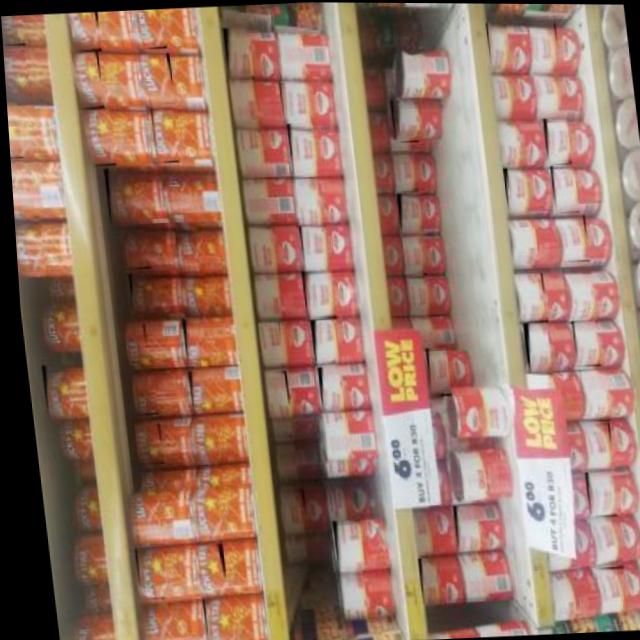Beans: (102, 166, 138, 229), (70, 47, 105, 108), (558, 265, 594, 323), (138, 52, 176, 106), (80, 107, 114, 166), (580, 513, 616, 568), (296, 267, 334, 319), (118, 488, 152, 546), (11, 215, 42, 278), (551, 212, 589, 263), (225, 74, 259, 131), (285, 120, 318, 177), (188, 541, 221, 597), (185, 484, 218, 540), (475, 380, 506, 439), (510, 271, 545, 323), (573, 366, 606, 421), (246, 269, 279, 323), (148, 105, 178, 164), (220, 25, 251, 82), (528, 21, 562, 72), (324, 518, 358, 569), (241, 224, 274, 276), (295, 224, 329, 274), (518, 319, 548, 375), (36, 363, 66, 419), (193, 596, 231, 640), (234, 122, 265, 175), (3, 48, 31, 105), (126, 547, 156, 600), (444, 502, 475, 553), (587, 561, 618, 612), (578, 468, 610, 517), (289, 179, 321, 228), (547, 163, 578, 213), (175, 270, 207, 318), (304, 317, 334, 368), (330, 569, 360, 620), (577, 421, 608, 470), (278, 80, 310, 127), (259, 369, 287, 422), (251, 317, 280, 368), (177, 316, 204, 370), (500, 165, 529, 214), (541, 116, 570, 165), (387, 96, 417, 143), (272, 487, 302, 534), (418, 344, 446, 394), (493, 120, 520, 171), (567, 318, 596, 365), (484, 18, 511, 68), (182, 419, 212, 464), (170, 222, 197, 272), (531, 73, 562, 116), (67, 12, 100, 52), (118, 225, 147, 270), (128, 422, 159, 464), (313, 365, 340, 412), (403, 503, 428, 553), (393, 192, 422, 235), (182, 369, 209, 415), (136, 9, 167, 49), (410, 556, 434, 607), (125, 373, 154, 415), (123, 272, 152, 314), (397, 233, 425, 276), (389, 150, 417, 192), (490, 71, 514, 120), (130, 601, 160, 640), (399, 272, 425, 317), (121, 323, 145, 368), (5, 100, 21, 159), (1, 15, 25, 46)
